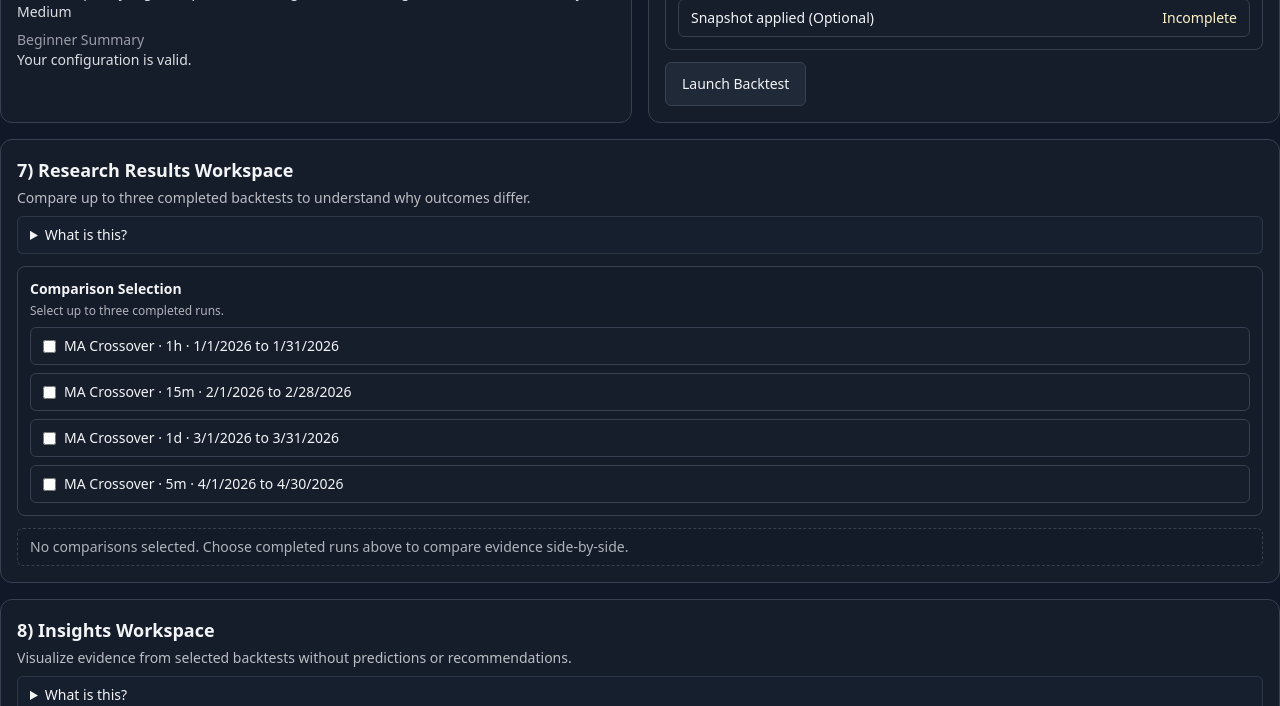
it: StrategyLabPage Prompt 4.2 › renders What Improved facts for two selected runs
(page scrolled)
Click the checkbox named "Select comparison run bt-1" at point(50, 346), box [43, 340, 56, 353]
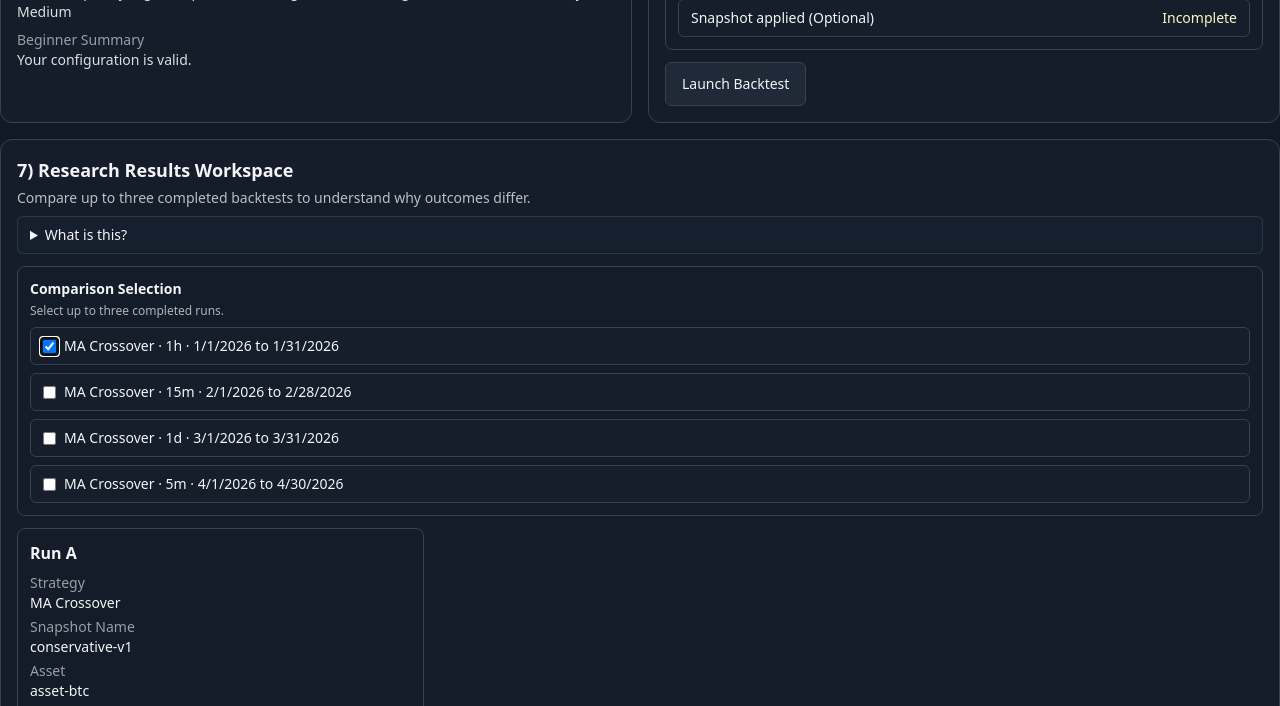
Click the checkbox named "Select comparison run bt-2" at point(50, 392), box [43, 386, 56, 399]
(page scrolled)
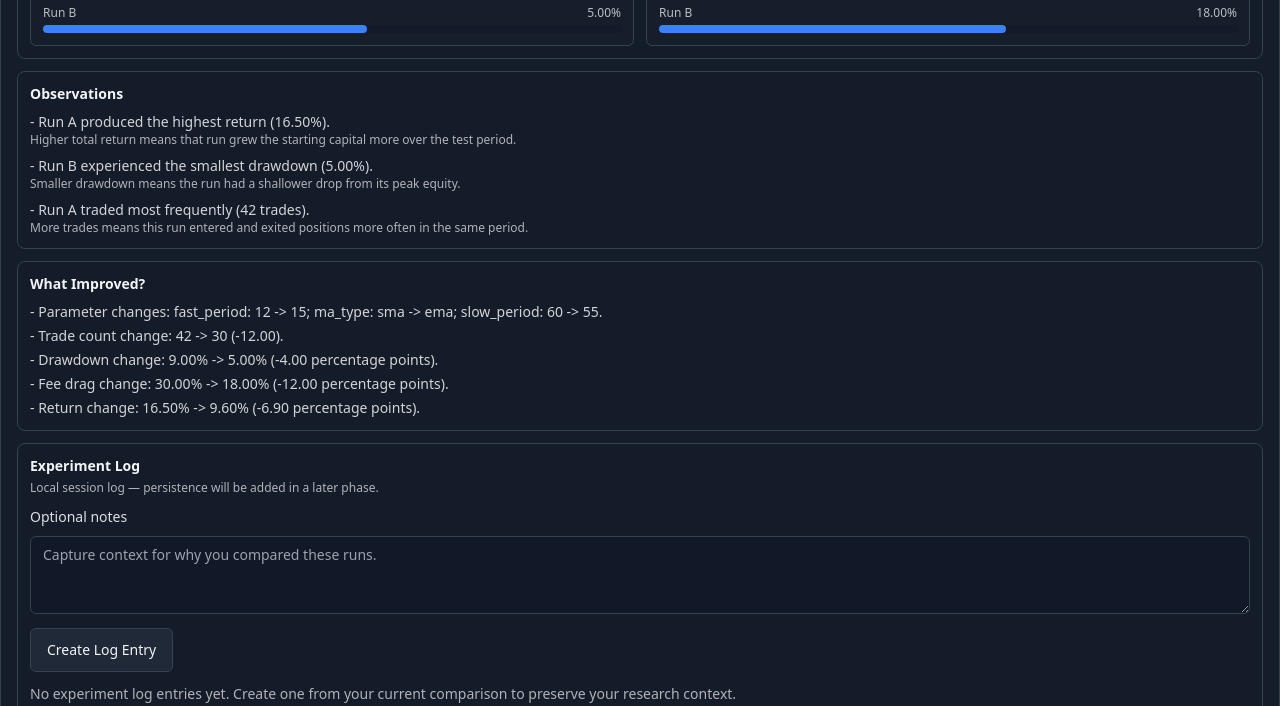
Now the element with test id "what-improved-panel" shows "Parameter changes:", box [38, 302, 603, 321]
Now the element with test id "what-improved-panel" shows "Trade count change:", box [38, 326, 284, 345]
Now the element with test id "what-improved-panel" shows "Drawdown change:", box [38, 350, 438, 369]
